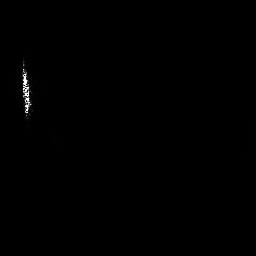ship: (20, 58, 33, 121)
